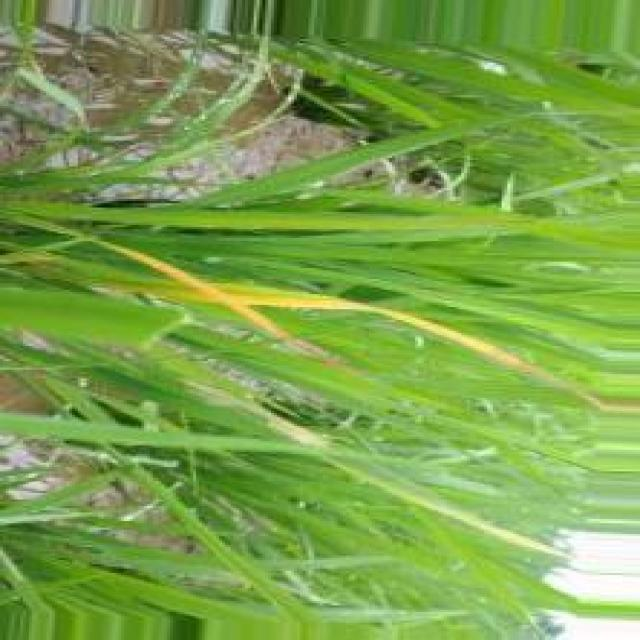Rice Tungro: (213, 286, 633, 410), (30, 223, 323, 354)
